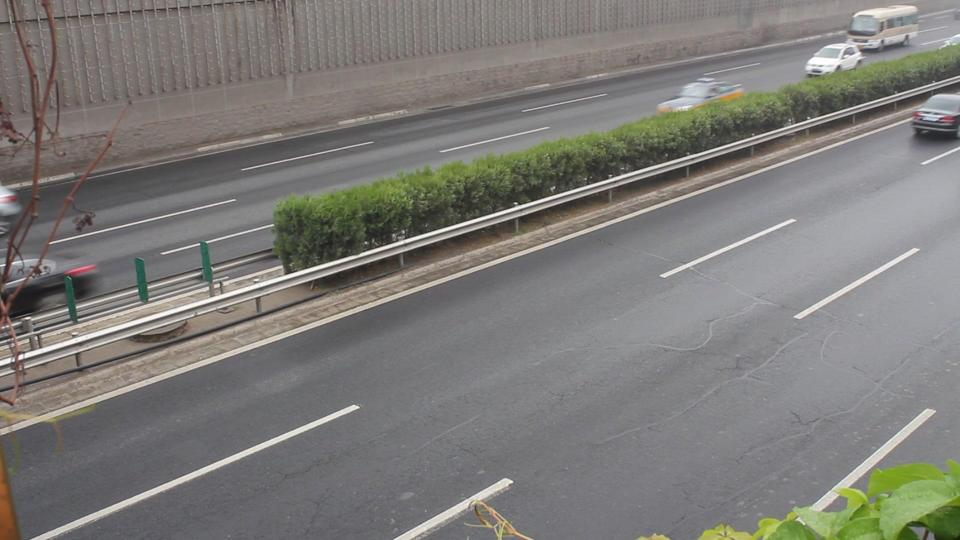bus: (846, 5, 921, 53)
car: (0, 249, 111, 313), (657, 78, 747, 114), (911, 93, 960, 138), (805, 43, 865, 77)
